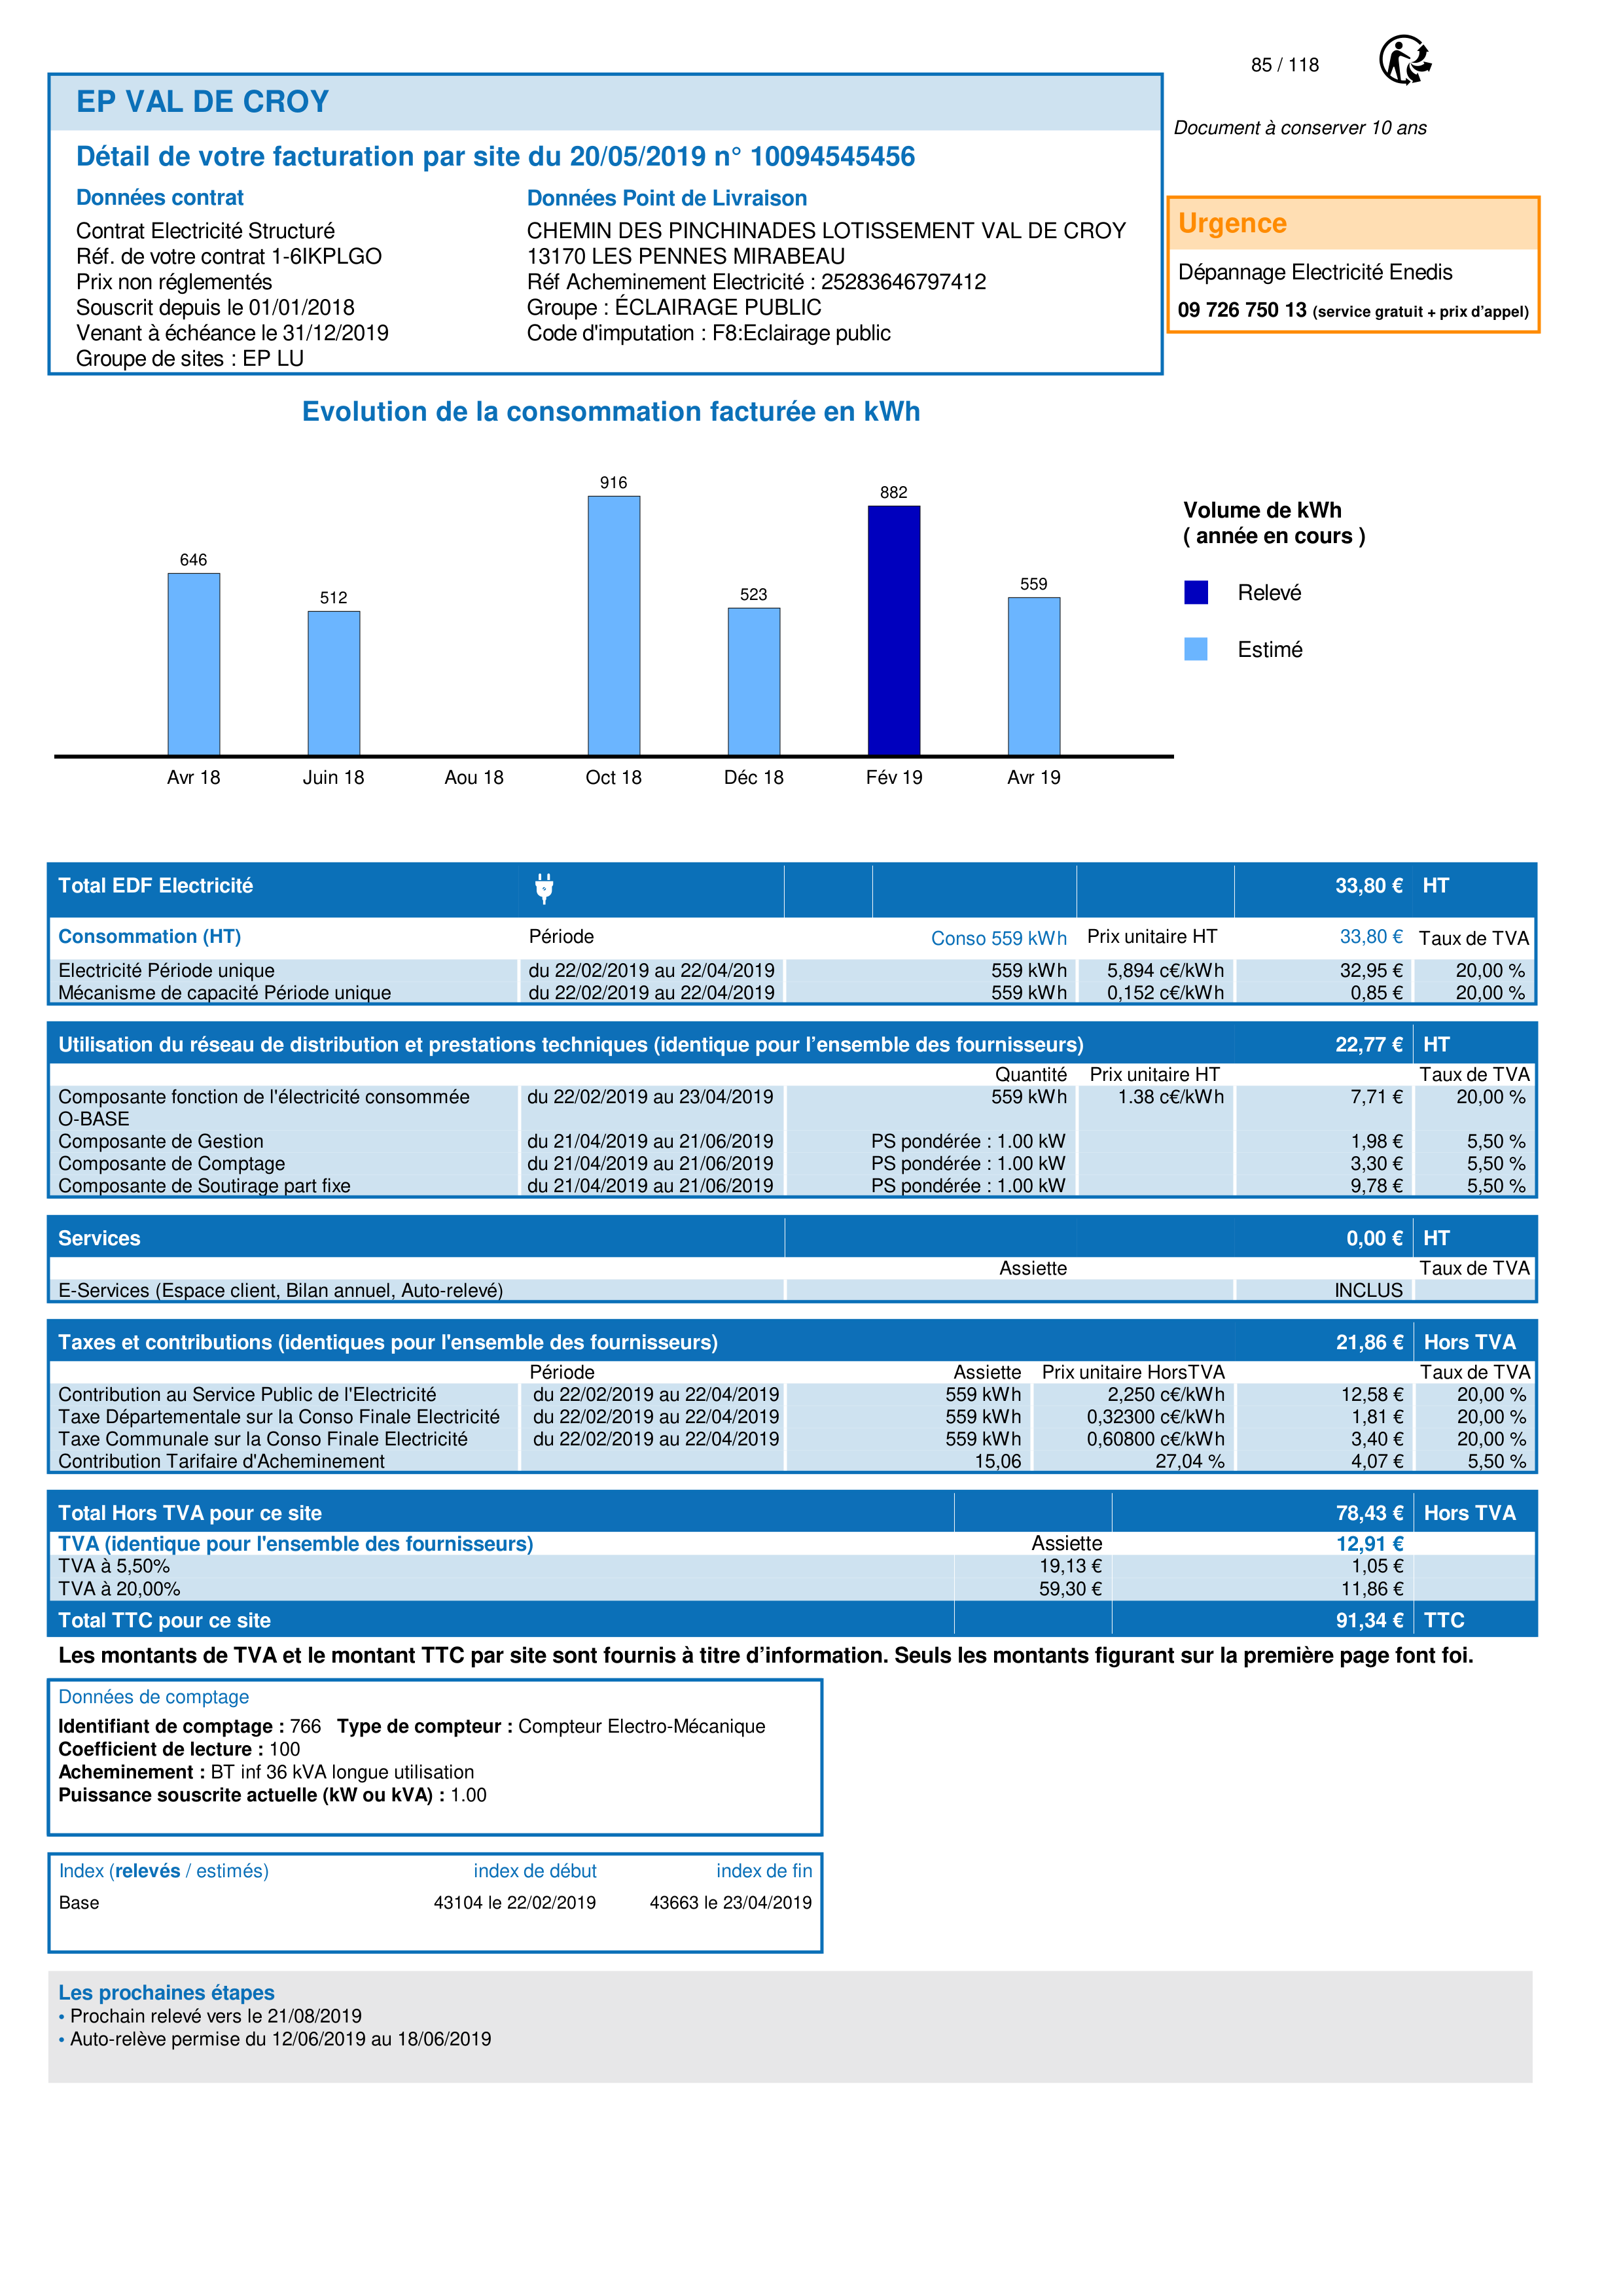area: (47, 1854, 823, 1956)
type_indicator: (48, 1854, 281, 1888)
